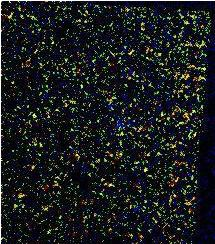star: (30, 193, 60, 223)
